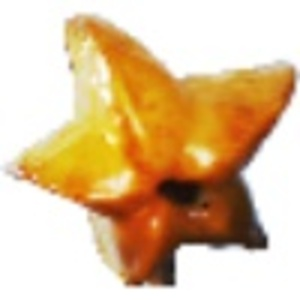carambola: (7, 12, 300, 290)
